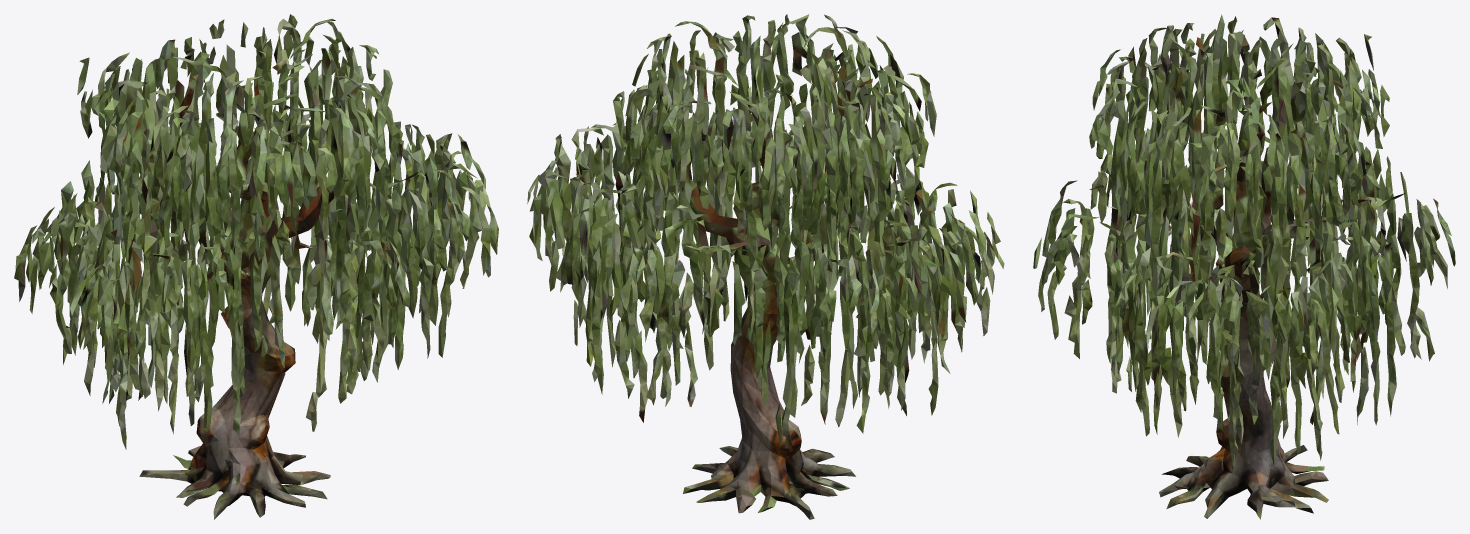
File: traveler_env_coast_kudo_sap_willow_00001_.glb
The picture shows the model from 3 angles, left to right: view 1: azimuth 30°, elevation 25°; view 2: azimuth 150°, elevation 25°; view 3: azimuth 270°, elevation 25°; orthographic projection.
Parts seen in each view (by area): view 1: temp_mesh.ply; view 2: temp_mesh.ply; view 3: temp_mesh.ply.
Part boxes in pixels (x1,y1,x2,y2): temp_mesh.ply: (14, 14, 498, 519); temp_mesh.ply: (527, 14, 1004, 519); temp_mesh.ply: (1033, 14, 1455, 519).
Size of the model in its own units: 1.93 by 1.92 by 1.64.
1 material, 1 textured.
